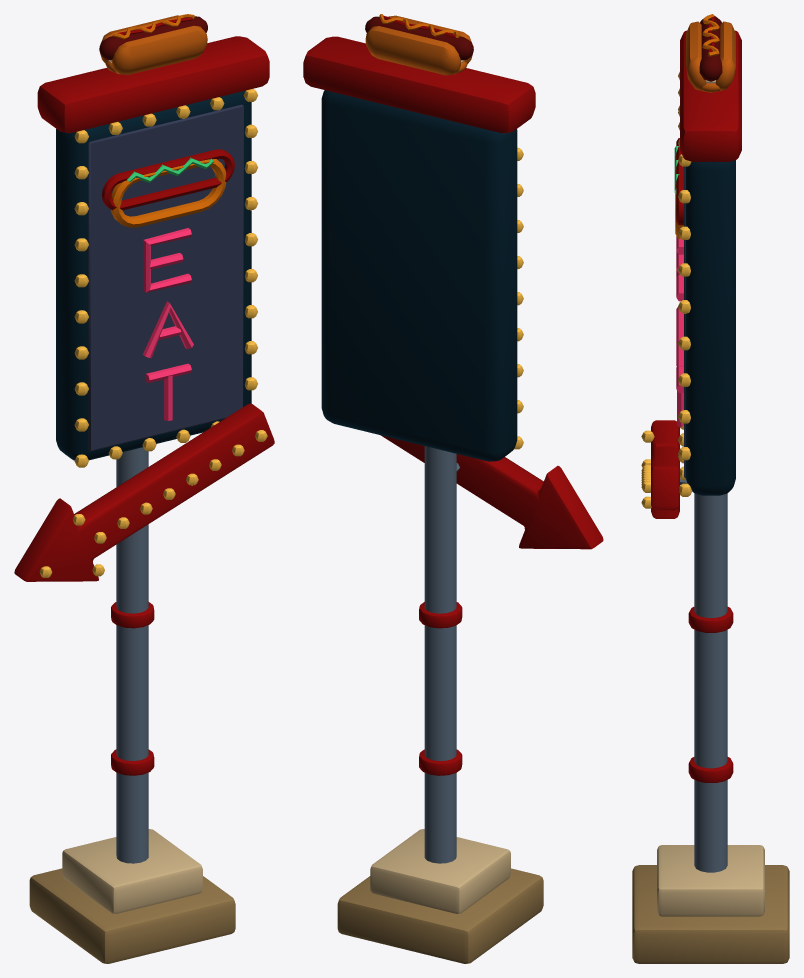
File: NeonSign.obj
3 renders of one model, left to right at view 1: azimuth 30°, elevation 25°; view 2: azimuth 150°, elevation 25°; view 3: azimuth 270°, elevation 25°, orthographic.
Visible parts, largest first — view 1: NeonSign; view 2: NeonSign; view 3: NeonSign.
Boxes of the visible parts, <box> form: NeonSign: <box>14,14,274,963</box>; NeonSign: <box>303,14,603,963</box>; NeonSign: <box>632,14,789,963</box>.
Bounding box in the file's own units: 3.72 × 12.12 × 1.9.
